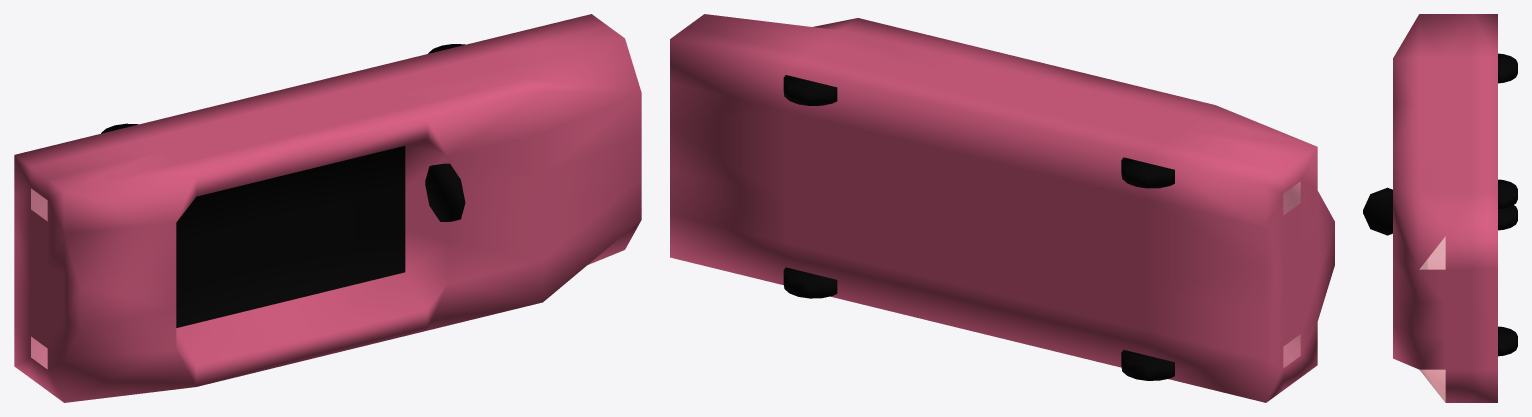
The model's file is asset16.glb.
3 views of the same model, side by side, from view 1: azimuth 30°, elevation 25°; view 2: azimuth 150°, elevation 25°; view 3: azimuth 270°, elevation 25° (orthographic). The views are drawn at different scales.
Parts seen in each view (by area): view 1: Cube1, Cylinder6; view 2: Cube1, Cylinder2_copy5, Cylinder2_copy3, Cylinder2, Cylinder2_copy4; view 3: Cube1, Cylinder6, Cylinder2, Cylinder2_copy5, Cylinder2_copy3, Cylinder2_copy4.
Boxes of the visible parts, left/top/right/bottom form: Cube1: left=14, top=14, right=641, bottom=402; Cylinder6: left=425, top=163, right=465, bottom=221; Cube1: left=670, top=14, right=1334, bottom=402; Cylinder2_copy5: left=783, top=267, right=837, bottom=298; Cylinder2_copy3: left=783, top=75, right=837, bottom=105; Cylinder2: left=1121, top=157, right=1174, bottom=188; Cylinder2_copy4: left=1121, top=350, right=1174, bottom=380; Cube1: left=1393, top=14, right=1497, bottom=402; Cylinder6: left=1363, top=187, right=1392, bottom=235; Cylinder2: left=1498, top=53, right=1517, bottom=83; Cylinder2_copy5: left=1498, top=326, right=1517, bottom=356; Cylinder2_copy3: left=1498, top=179, right=1517, bottom=209; Cylinder2_copy4: left=1498, top=205, right=1517, bottom=230.
Bounding box in the file's own units: 1 × 0.35 × 0.2942.
